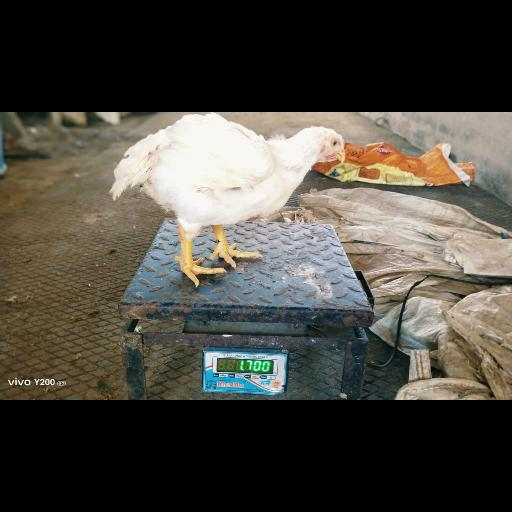chick: (113, 115, 345, 286)
